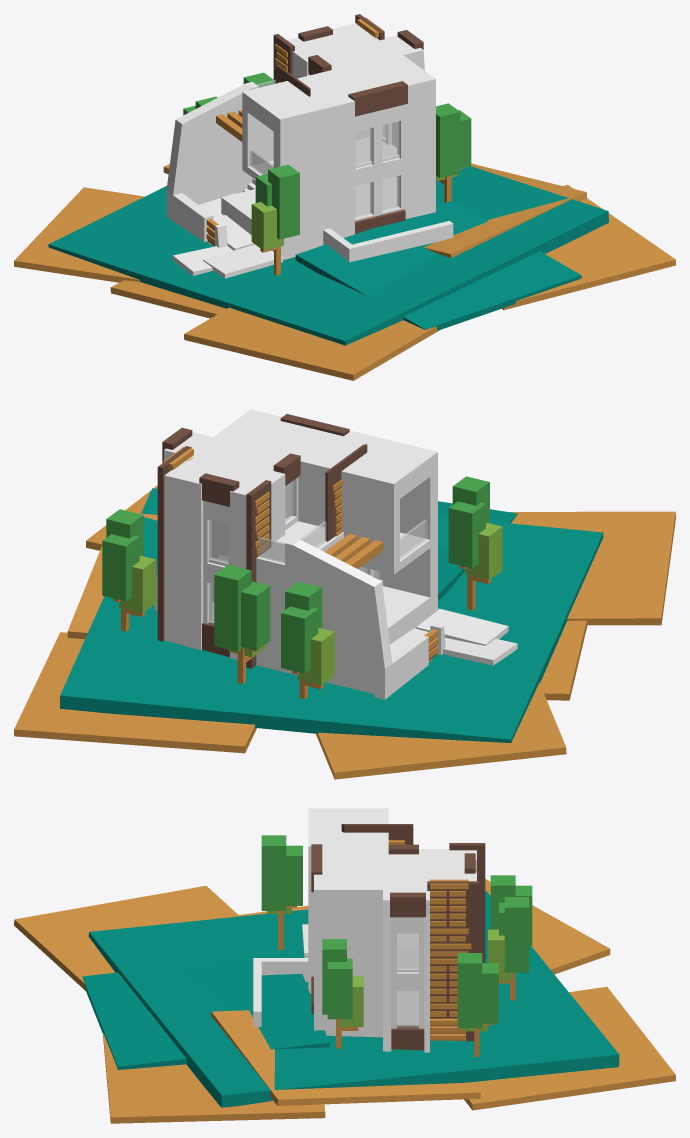
File: modern_concept_1.glb
3 views of the same model, one above another, from view 1: azimuth 30°, elevation 25°; view 2: azimuth 150°, elevation 25°; view 3: azimuth 270°, elevation 25° (orthographic). The views are drawn at different scales.
Visible parts, largest first — view 1: group1888289179, group1813394815, group253285419, group1806015652, group1470238654, group736343299, group1815904101, group1426466006, group326461138, group650252554, group119628461, group176181420 (+17 smaller); view 2: group1888289179, group1806015652, group1544357191, group1815904101, group1426466006, group736343299, group1120593531, group2075308624, group119628461, group1533562057, group1535455802, group1316086061 (+26 smaller); view 3: group1888289179, group1813394815, group1806015652, group1544357191, group1470238654, group11171617, group1853235916, group93068292, group736343299, group119628461, group1901081756, group1535455802 (+16 smaller).
Part boxes in pixels (x1,y1,x2,y2): group1888289179: (48,166,608,345); group1813394815: (295,200,581,330); group253285419: (282,96,354,259); group1806015652: (184,307,439,380); group1470238654: (502,184,675,309); group736343299: (242,55,429,133); group1815904101: (14,187,144,282); group1426466006: (182,110,252,204); group326461138: (376,81,407,226); group650252554: (404,75,435,218); group119628461: (251,164,299,275); group176181420: (348,87,380,233); group1888289179: (60,488,603,742); group1806015652: (509,511,675,625); group1544357191: (14,632,256,753); group1815904101: (316,682,566,779); group1426466006: (230,552,374,693); group736343299: (218,411,434,502); group1120593531: (164,472,203,650); group2075308624: (285,467,399,566); group119628461: (448,476,502,610); group1533562057: (214,565,270,683); group1535455802: (102,509,156,631); group1316086061: (281,581,334,699); group1888289179: (88,891,619,1107); group1813394815: (82,952,329,1069); group1806015652: (14,885,239,990); group1544357191: (464,986,675,1110); group1470238654: (103,1033,325,1123); group11171617: (325,886,388,1037); group1853235916: (211,1010,480,1105); group93068292: (390,892,425,1050); group736343299: (314,808,388,887); group119628461: (261,835,302,950); group1901081756: (322,939,363,1048); group1535455802: (457,953,498,1056).
Bounding box in the file's own units: 2.17 × 0.73 × 2.4.
